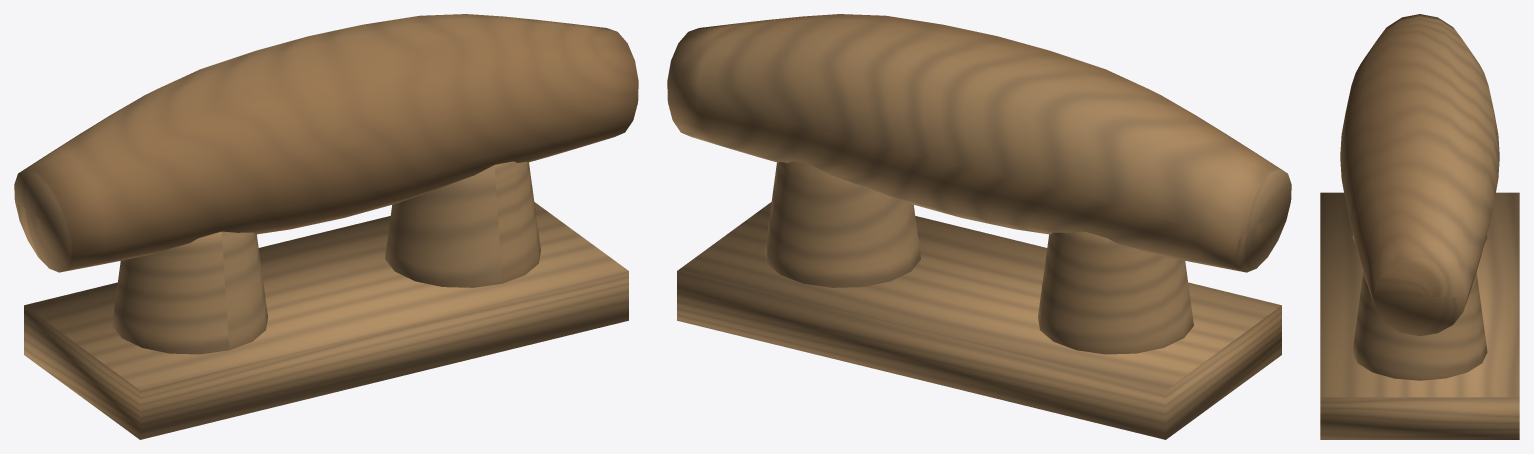
The model's file is cleat.glb.
3 renders of one model, left to right at view 1: azimuth 30°, elevation 25°; view 2: azimuth 150°, elevation 25°; view 3: azimuth 270°, elevation 25°, orthographic. The views are drawn at different scales.
Visible parts, largest first — view 1: cleat_LOD0; view 2: cleat_LOD0; view 3: cleat_LOD0.
Boxes of the visible parts, box(x1,y1,x2,y2) form: cleat_LOD0: box(14, 14, 638, 439); cleat_LOD0: box(667, 14, 1291, 439); cleat_LOD0: box(1320, 14, 1519, 439).
Size of what is drawn, in the model's own units: 0.2459 by 0.119 by 0.085.
Materials: 1 (1 with a texture image).
